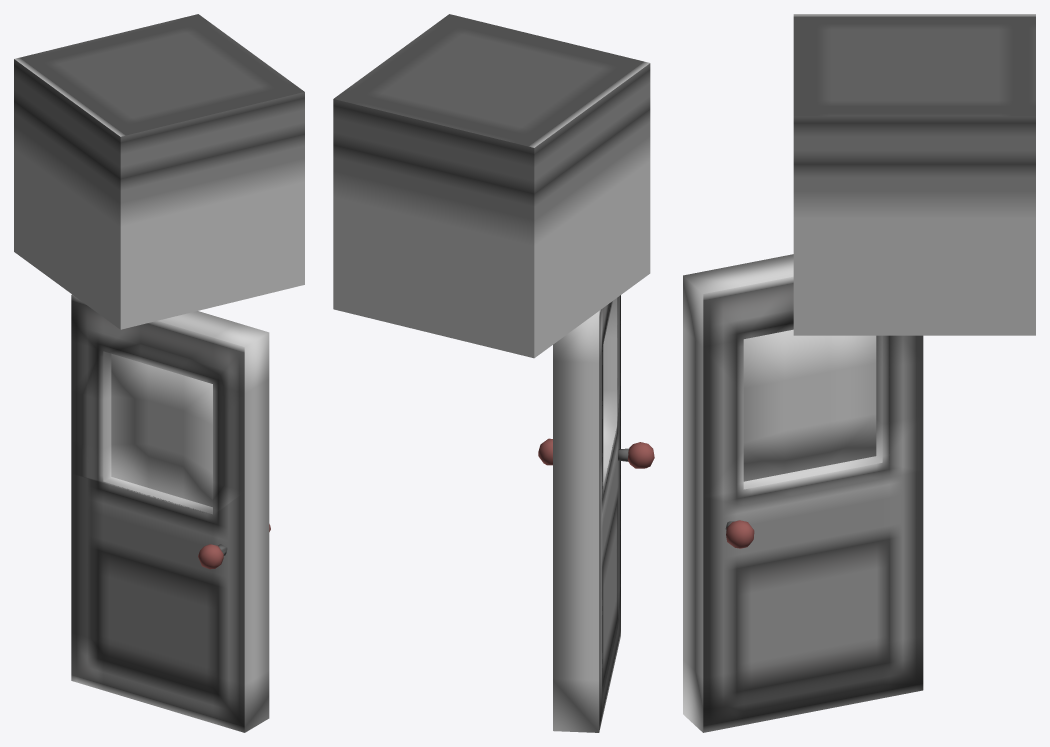
Rendered from Door_openness_2.fbx.
3 views of the same model, side by side, from view 1: azimuth 30°, elevation 25°; view 2: azimuth 150°, elevation 25°; view 3: azimuth 270°, elevation 25° (orthographic). The views are drawn at different scales.
Parts seen in each view (by area): view 1: Door_openness_2; view 2: Door_openness_2; view 3: Door_openness_2.
Part boxes in pixels (x1,y1,x2,y2): Door_openness_2: (14,14,304,732); Door_openness_2: (333,14,654,732); Door_openness_2: (683,14,1035,732).
Bounding box in the file's own units: 101 × 300 × 146.
